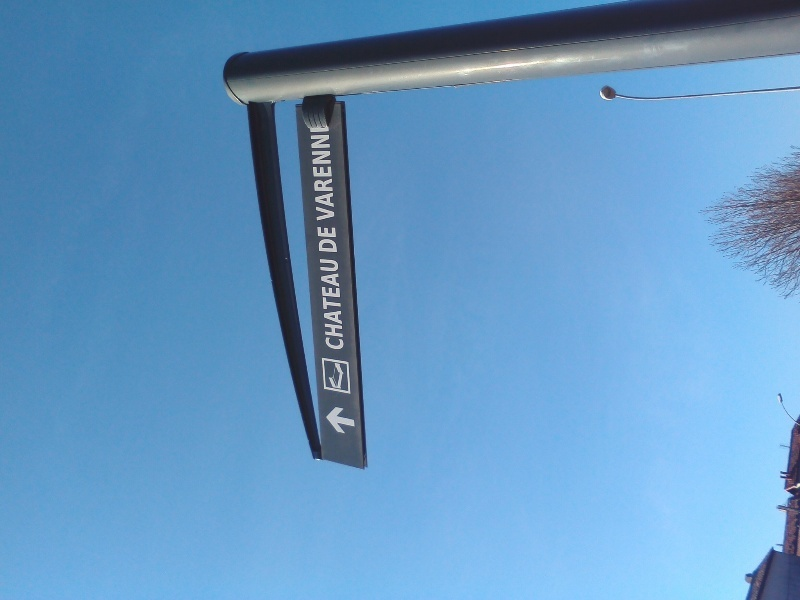text: (321, 258, 336, 352), (321, 132, 336, 222), (309, 132, 320, 222), (337, 258, 345, 352), (321, 227, 336, 254), (319, 258, 320, 352), (317, 227, 320, 254), (337, 227, 339, 254)
